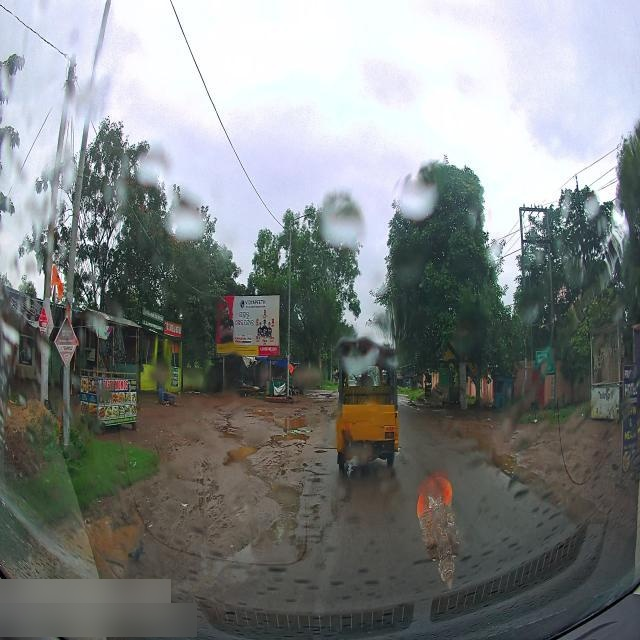pothole: (263, 476, 301, 512), (222, 446, 261, 468), (270, 414, 323, 430), (268, 432, 308, 448), (286, 463, 314, 479), (244, 408, 276, 420), (310, 442, 330, 458)
